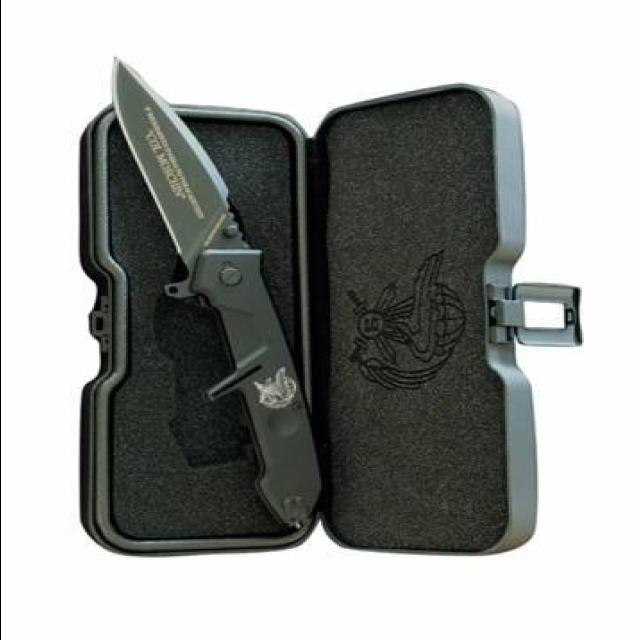Sharp-Object: (108, 45, 266, 308)
